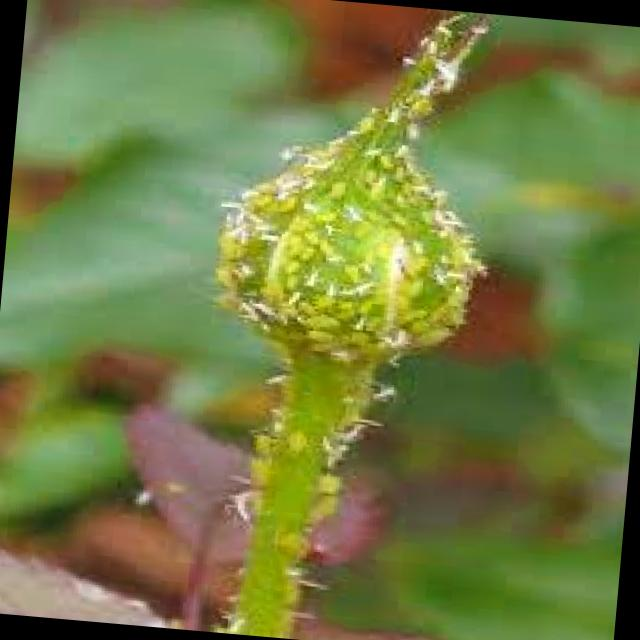aphid: (229, 445, 272, 493), (296, 486, 342, 526), (270, 523, 312, 561), (275, 419, 311, 462), (400, 88, 440, 126), (198, 284, 250, 312), (314, 170, 352, 208), (286, 306, 341, 331), (203, 256, 239, 292), (389, 298, 428, 328), (242, 424, 278, 456), (343, 106, 378, 138), (266, 188, 302, 215), (292, 322, 339, 342), (334, 322, 372, 346), (240, 183, 276, 208), (398, 308, 430, 336), (395, 272, 427, 300), (298, 332, 336, 355), (346, 289, 376, 318), (290, 220, 322, 247), (366, 142, 395, 171), (301, 286, 336, 310), (333, 255, 362, 282), (352, 158, 381, 185), (382, 156, 411, 182), (284, 294, 315, 318), (289, 238, 320, 262), (306, 201, 337, 223), (273, 268, 301, 292), (272, 253, 302, 275)
